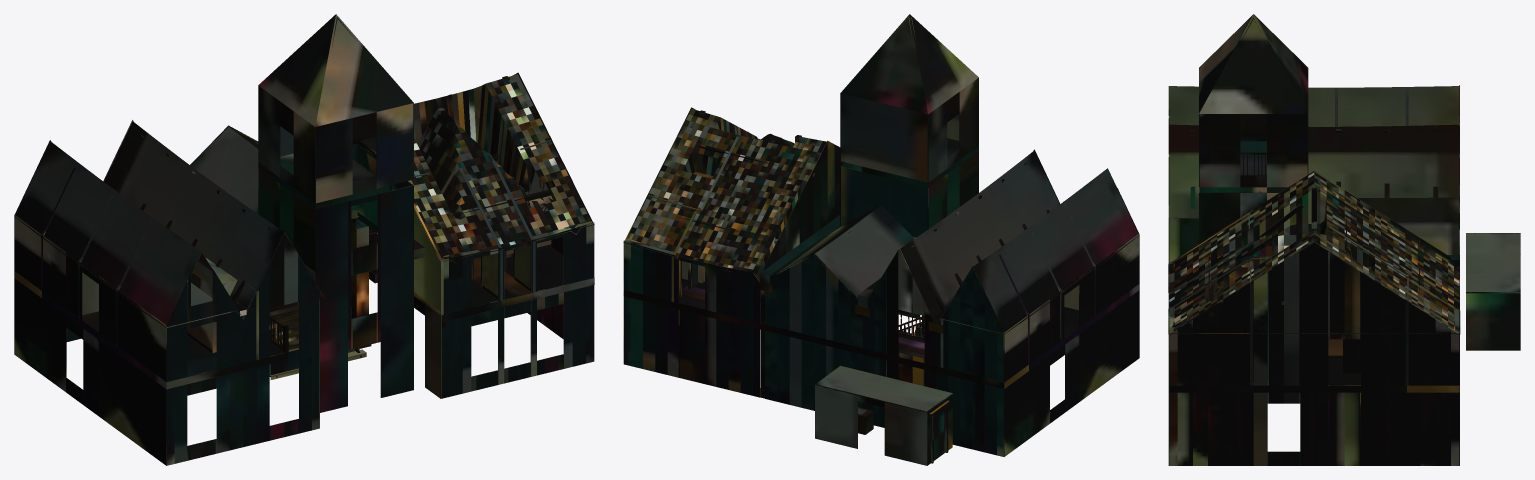
Rendered from hall_structure.glb.
The picture shows the model from 3 angles, left to right: view 1: azimuth 30°, elevation 25°; view 2: azimuth 150°, elevation 25°; view 3: azimuth 270°, elevation 25°; orthographic projection. The views are drawn at different scales.
Parts seen in each view (by area): view 1: CHUNK_hall_structure; view 2: CHUNK_hall_structure; view 3: CHUNK_hall_structure.
Part boxes in pixels (x1=…): CHUNK_hall_structure: x1=14, y1=14, x2=594, y2=465; CHUNK_hall_structure: x1=623, y1=14, x2=1139, y2=465; CHUNK_hall_structure: x1=1168, y1=14, x2=1520, y2=465.
Size of the model in its own units: 23.4 by 19.19 by 17.42.
Materials: 1 (1 with a texture image).
